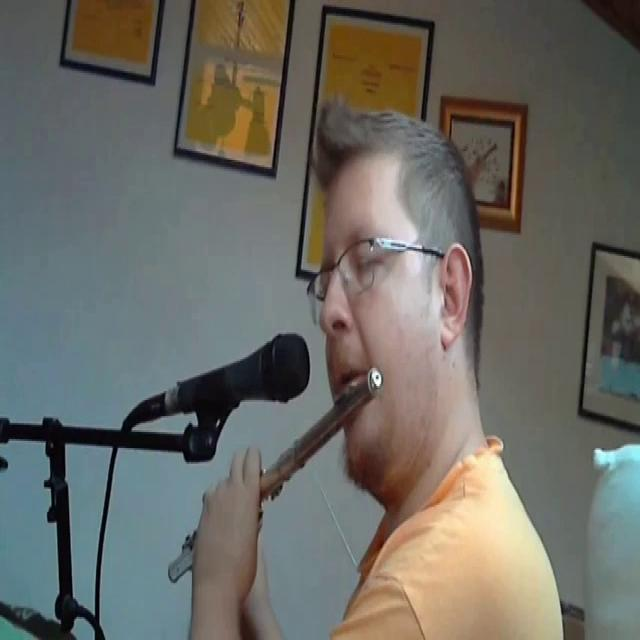Flute: (167, 368, 384, 580)
